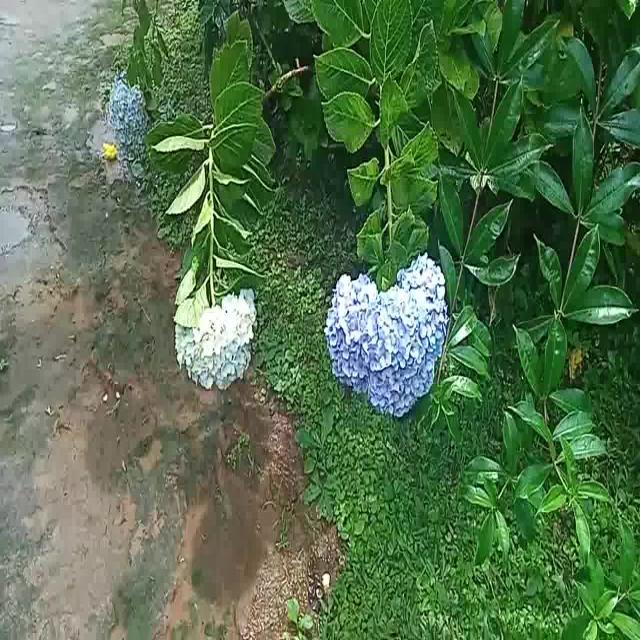Flower: (325, 248, 449, 421), (170, 291, 262, 390), (110, 77, 143, 137)
